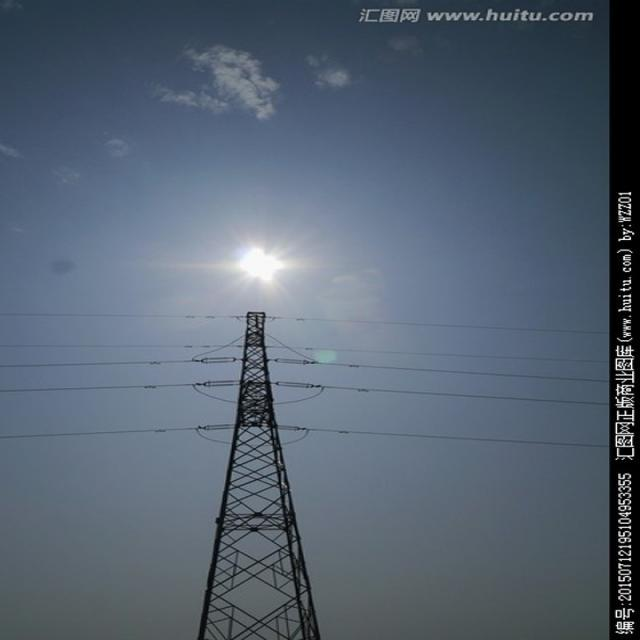non-critical vegetation: (188, 309, 330, 635)
